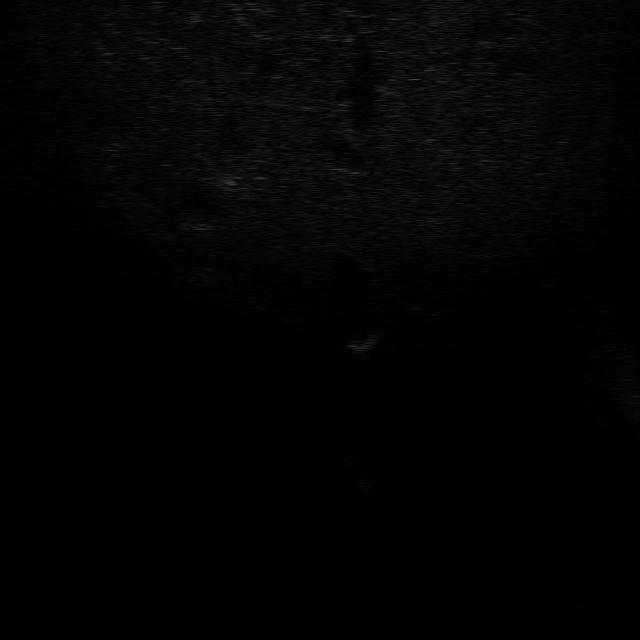cube: (331, 452, 371, 474)
square cage: (345, 329, 386, 355)
